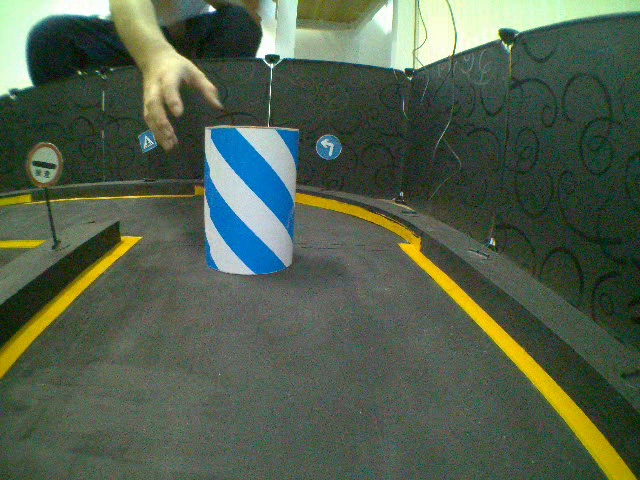bucket: (204, 122, 295, 275)
